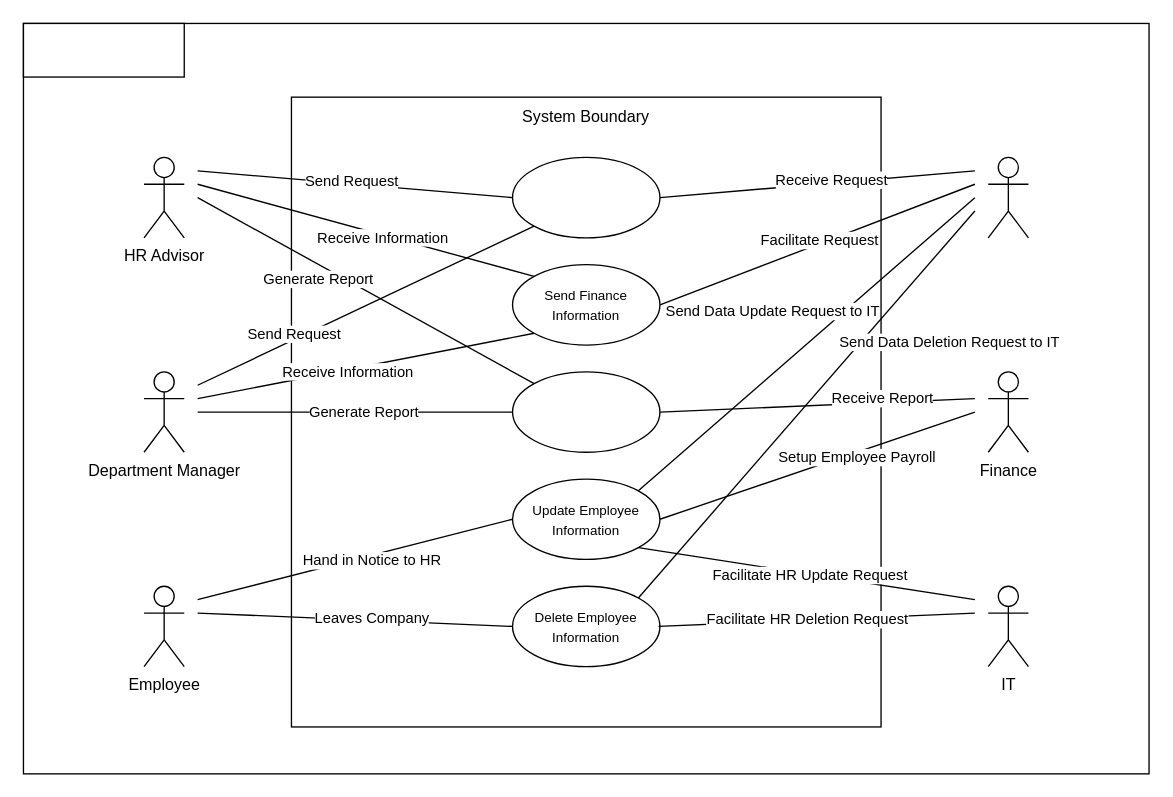
This 1173x797 diagram has some shape labels left out. Here are the shapes that lost their labels. From the top down, the box of each, then its label:
(22, 22, 184, 77): Use Cases
(511, 156, 660, 238): Request Finance Information
(987, 156, 1028, 238): HR
(511, 371, 660, 452): Send Finance Report
